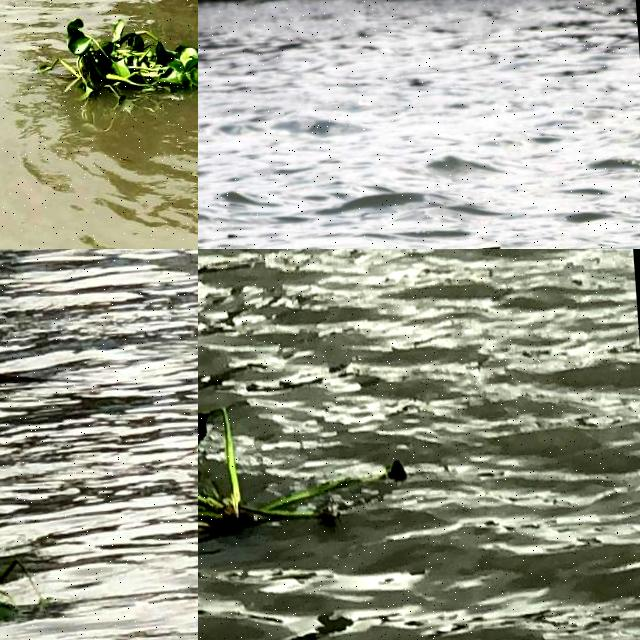water-hyacinth: (199, 381, 413, 550), (44, 1, 199, 112), (1, 531, 132, 640)
